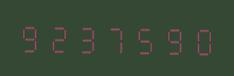five: (129, 20, 156, 56)
nine: (157, 20, 184, 57), (17, 18, 44, 54)
seven: (101, 19, 128, 56)
three: (73, 19, 100, 55)
two: (45, 18, 72, 55)
zero: (185, 21, 212, 57)
